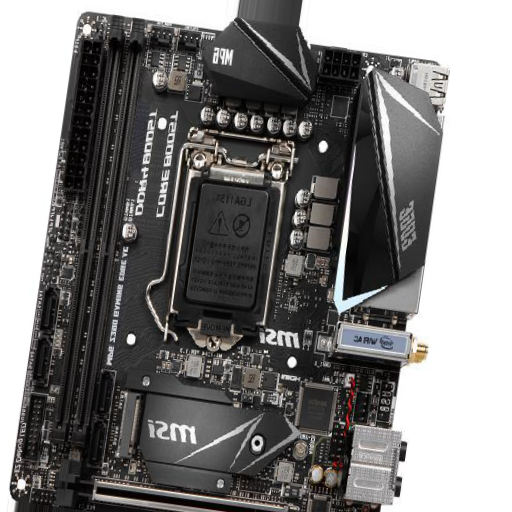CPU: (170, 145, 287, 352), (171, 148, 289, 352)
GPU: (48, 458, 300, 511)
MOTHERBOARD: (9, 4, 465, 510)
RAM: (47, 15, 146, 454)
